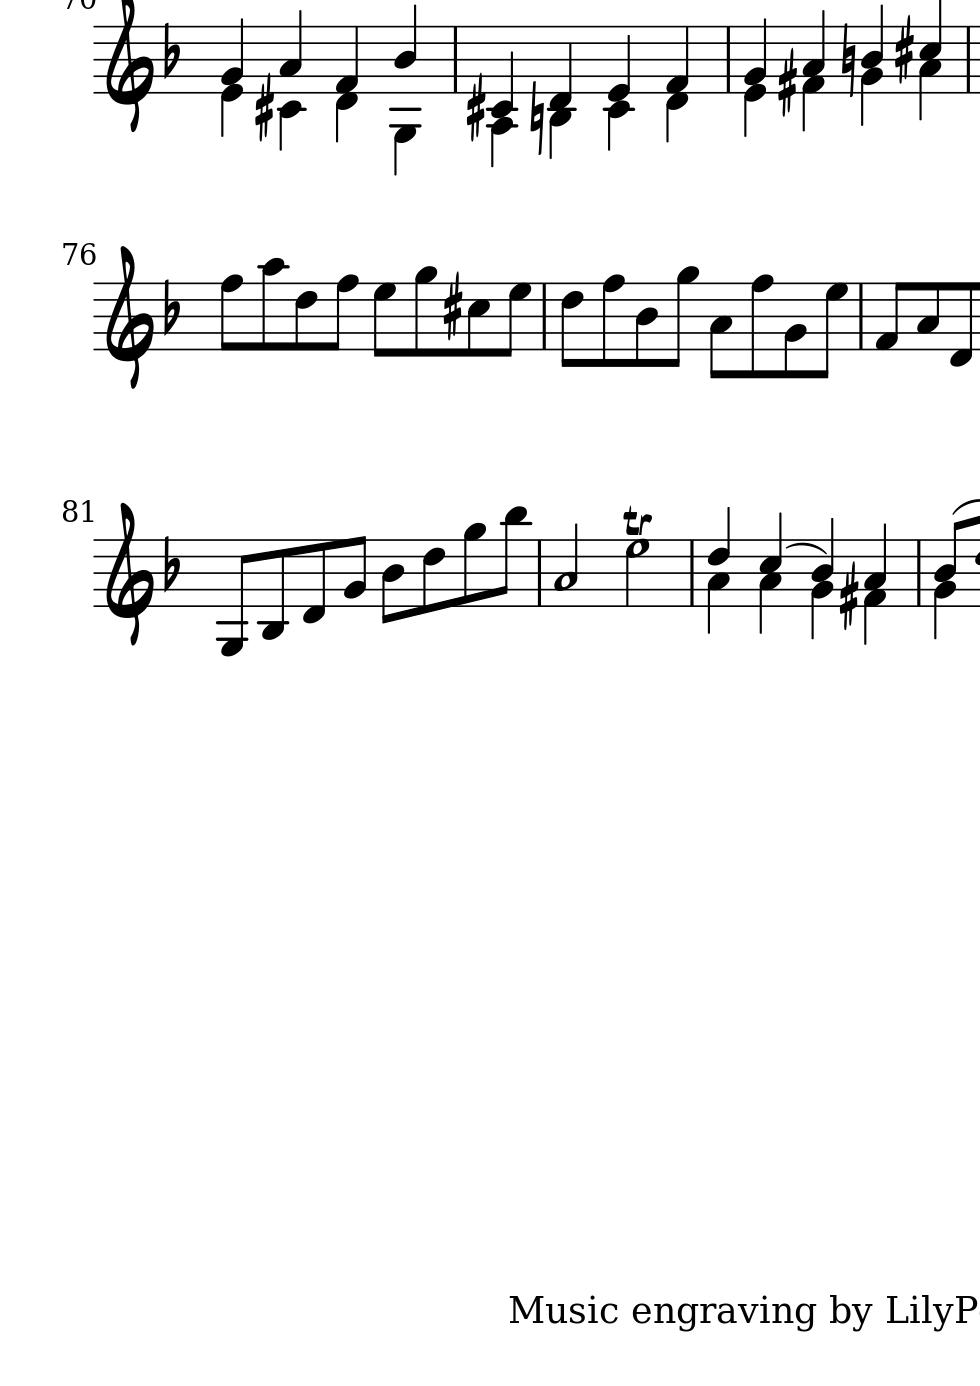1: (78, 497, 95, 525)
2_3: (552, 523, 579, 608)
2_7: (623, 539, 649, 610)
4_-1_1: (665, 25, 692, 145), (334, 25, 358, 143)
4_-2_0: (603, 24, 631, 153)
4_-2_3: (277, 7, 307, 152)
4_-3_-1: (549, 24, 576, 160)
4_-4_-2: (487, 24, 517, 169)
4_-5_4: (391, 3, 420, 177)
4_0_2: (220, 18, 246, 140), (743, 18, 768, 138)
4_1_3: (863, 523, 888, 647), (802, 10, 826, 131)
4_2_4: (810, 517, 836, 642), (860, 4, 885, 126)
4_3_5: (758, 513, 783, 635), (918, 1, 943, 122)
4_3_6: (706, 507, 731, 633)
6: (78, 241, 97, 268)
7: (62, 240, 78, 268)
8: (60, 497, 78, 525)
8_-1: (299, 538, 328, 625), (947, 280, 973, 370)
8_-3: (258, 539, 288, 641)
8_-5: (215, 537, 251, 657)
8_1: (872, 280, 905, 352)
8_10: (259, 256, 287, 352)
8_11: (493, 505, 529, 609)
8_2: (781, 279, 807, 381), (342, 534, 367, 608)
8_3: (707, 280, 733, 381), (914, 280, 941, 352)
8_4: (633, 280, 659, 368), (379, 538, 404, 626)
8_5: (465, 281, 490, 359)
8_6: (559, 280, 584, 369), (419, 538, 445, 616), (292, 281, 318, 352)
8_7: (813, 281, 848, 379), (498, 281, 532, 358), (371, 281, 397, 358)
8_8: (746, 271, 774, 380), (326, 273, 358, 353), (599, 271, 625, 368), (218, 273, 243, 352)
8_9: (664, 264, 699, 368), (412, 265, 437, 357), (460, 522, 486, 610)
Flat: (161, 20, 183, 78), (161, 534, 182, 592), (161, 277, 181, 336)
Gclef: (104, 243, 155, 388), (104, 501, 154, 646), (106, 1, 153, 133)
Natural: (839, 18, 858, 100), (527, 78, 545, 159)
Sharp: (890, 14, 916, 87), (252, 69, 275, 142), (463, 71, 486, 143), (837, 562, 859, 632), (775, 47, 797, 119), (440, 274, 462, 340)
Single_barline: (683, 538, 700, 606), (719, 27, 736, 93), (447, 27, 463, 93), (910, 540, 927, 606), (960, 27, 976, 93), (536, 283, 552, 350), (853, 283, 869, 350), (533, 539, 546, 606)
Slur: (787, 541, 826, 557)
Trill: (619, 503, 653, 537)
